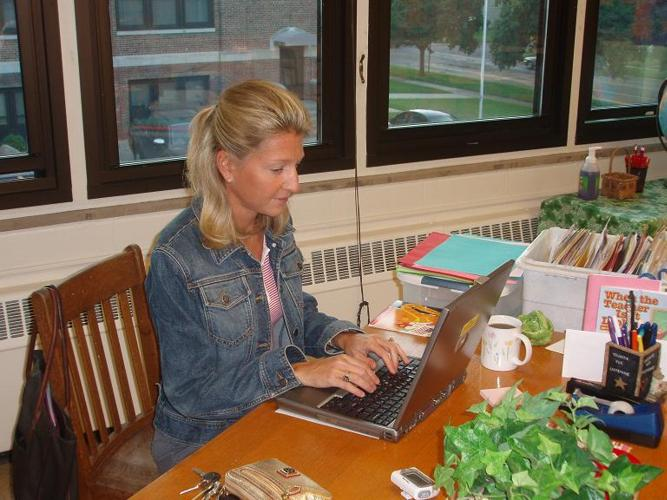person: (144, 82, 411, 475)
